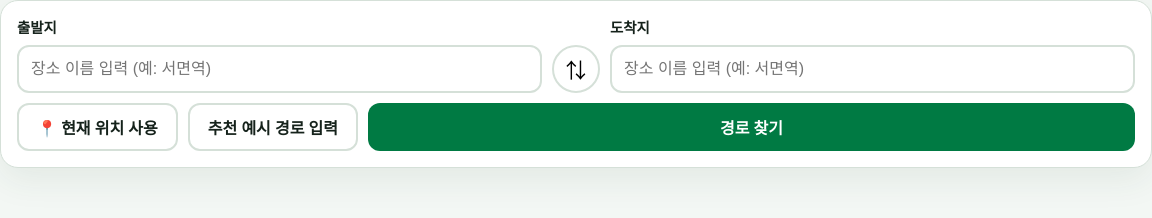
출발지·도착지 장소 검색 › 새 검색 중에는 이전 결과를 숨기고 이전 응답이 선택 결과를 덮지 않는다
Type "북구청" into the dropdown labelled "출발지" at x=280, y=69, box [17,45,542,93]
Wait 200 ms
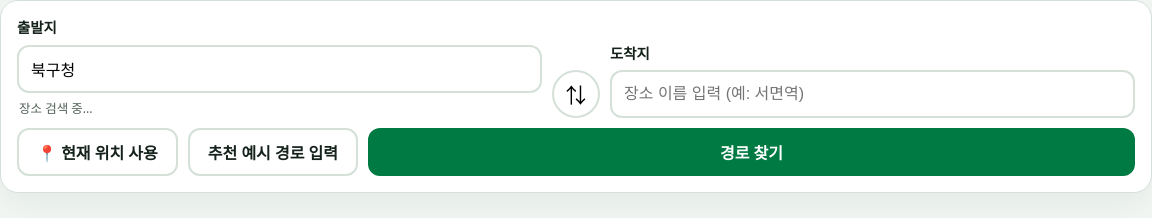
Replace the text in the dropdown labelled "출발지" with "부산역" at x=280, y=69, box [17,45,542,93]
Wait 200 ms
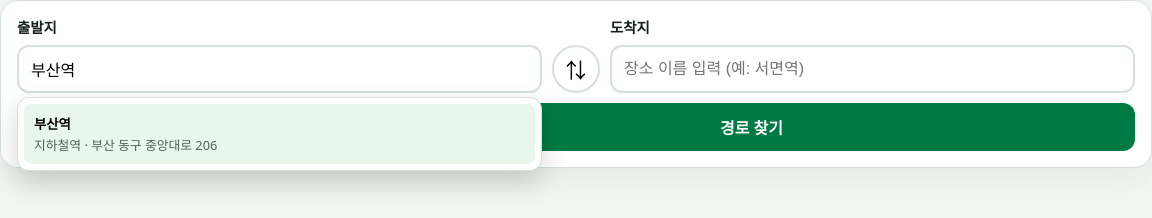
Press Enter in the dropdown labelled "출발지", box [17,45,542,93]
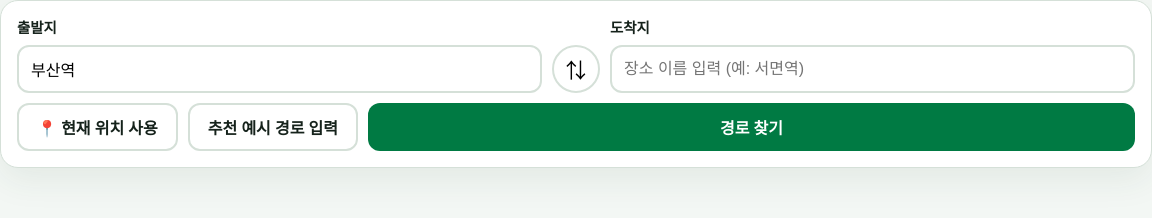
Expected: the option is gone
